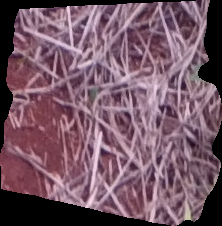soil: (1, 3, 222, 225)
